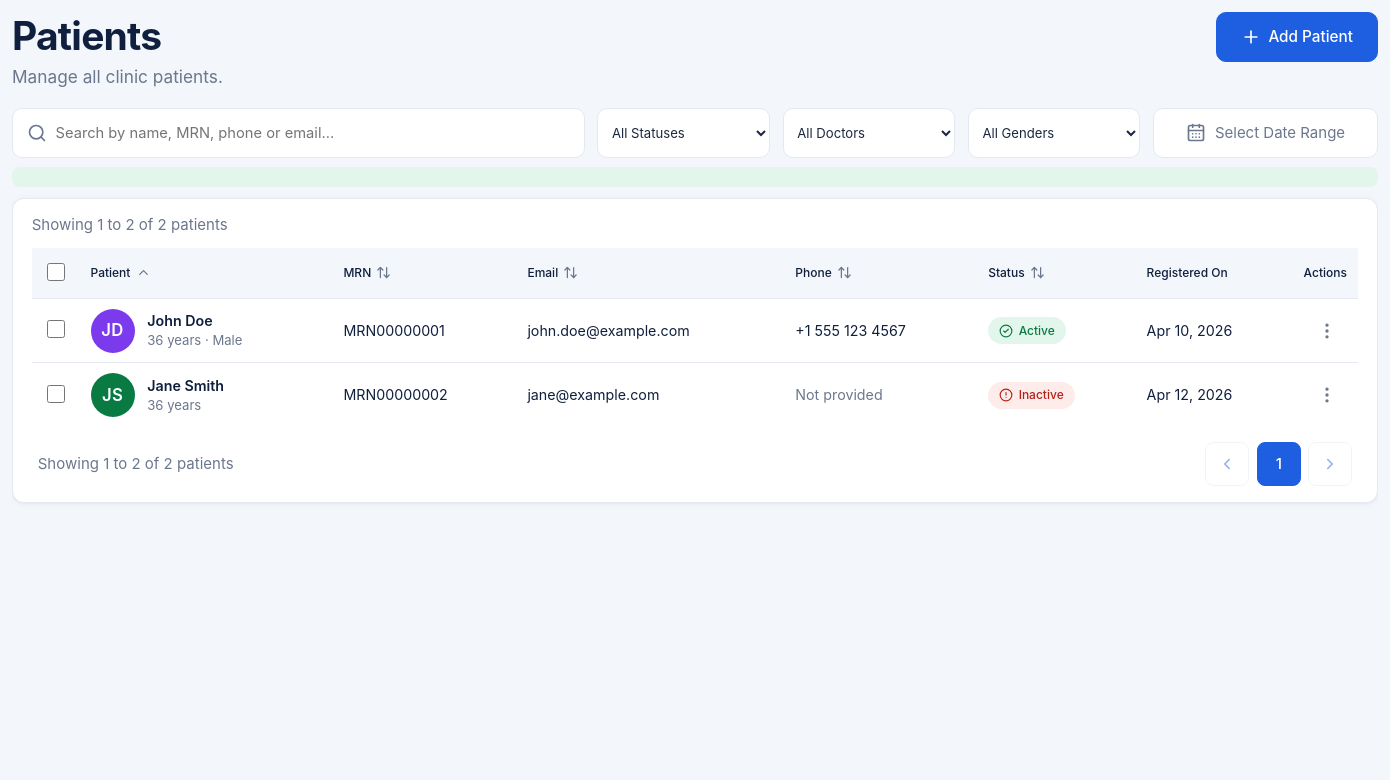
Scenario: Patients › filters by status and by doctor, together
This screenshot has width=1390, height=780.
Select "Inactive" in the 1st dropdown named "Status" at (684, 133), box [597,108,770,158]
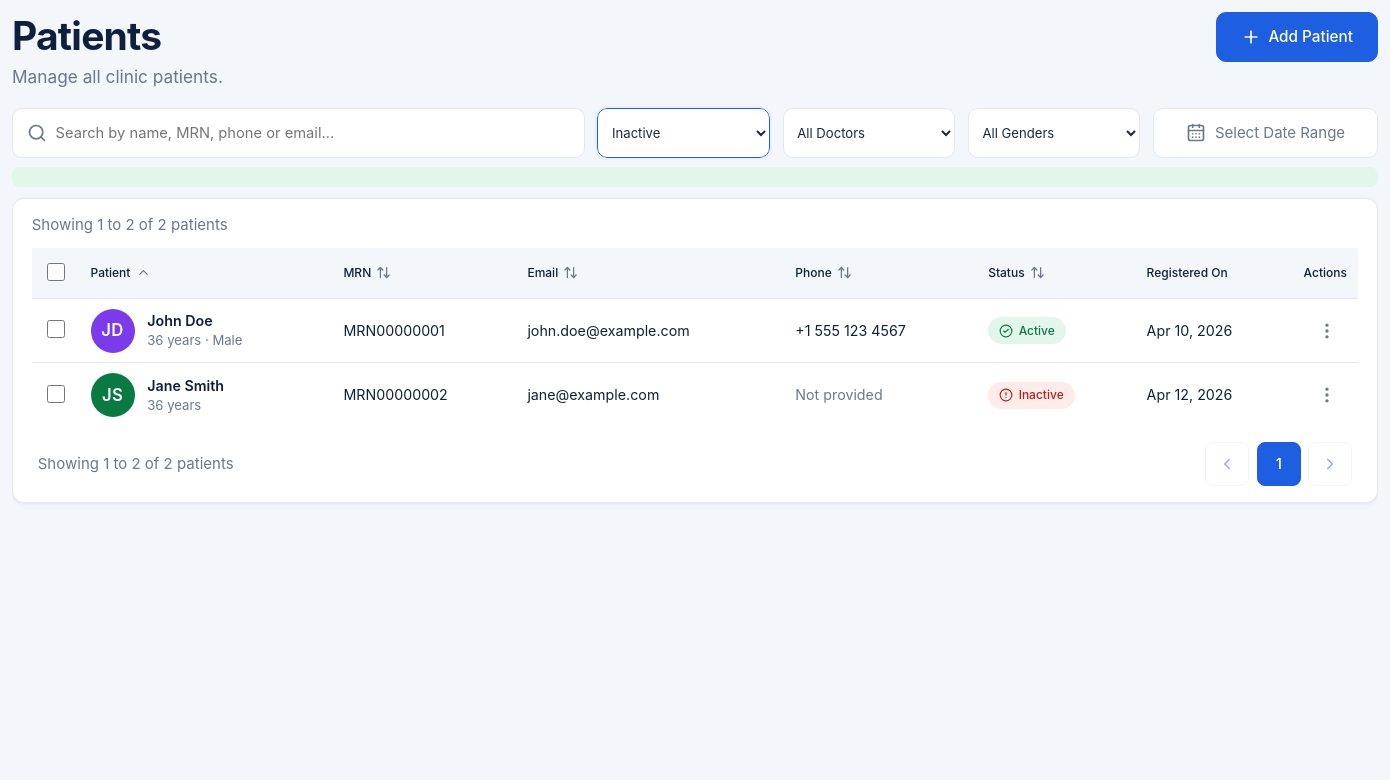
Select "Dr. Sarah Khan" in the 2nd dropdown named "Doctor" at (869, 133), box [782,108,955,158]
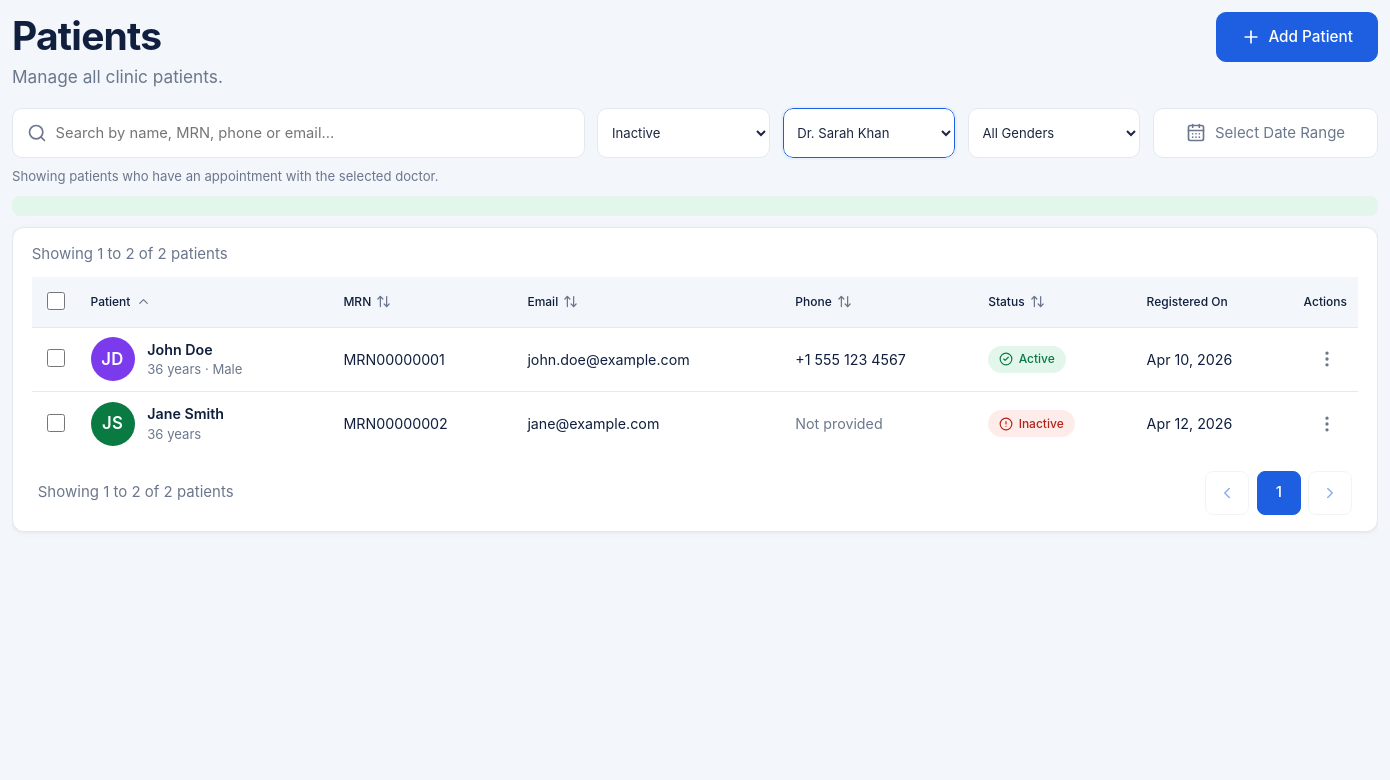
Expected: the text "who have an appointment with the selected doctor" is shown, [12,168,438,184]
